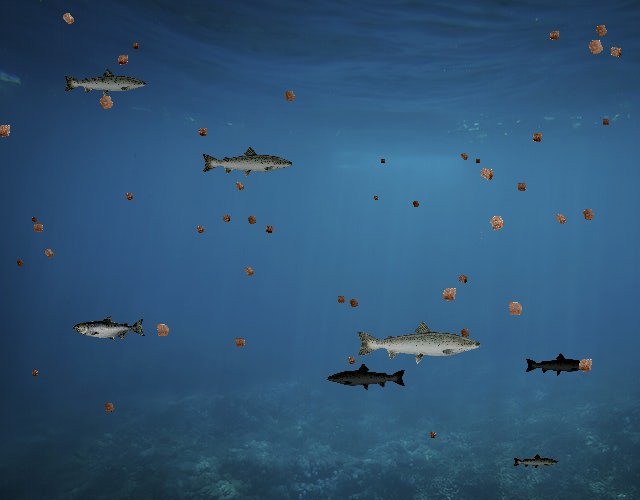Fish: (354, 319, 483, 365), (200, 146, 294, 179), (62, 67, 148, 98), (327, 362, 408, 391), (73, 315, 146, 342), (525, 352, 593, 377), (513, 454, 560, 470)
Pellet: (435, 280, 464, 309), (571, 351, 599, 379), (473, 161, 500, 188), (56, 6, 81, 31), (576, 203, 600, 227), (343, 353, 360, 370), (28, 366, 42, 380)
